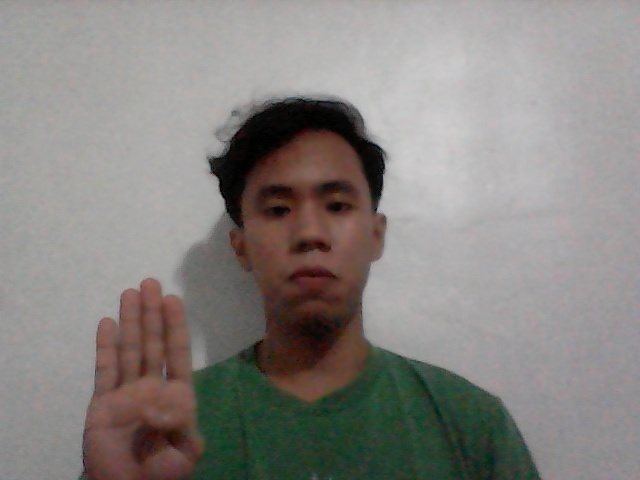B: (62, 266, 220, 480)
